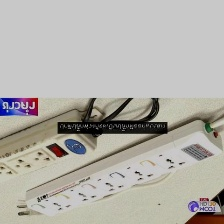three_eye_plug: (22, 116, 223, 218), (0, 105, 100, 184)
